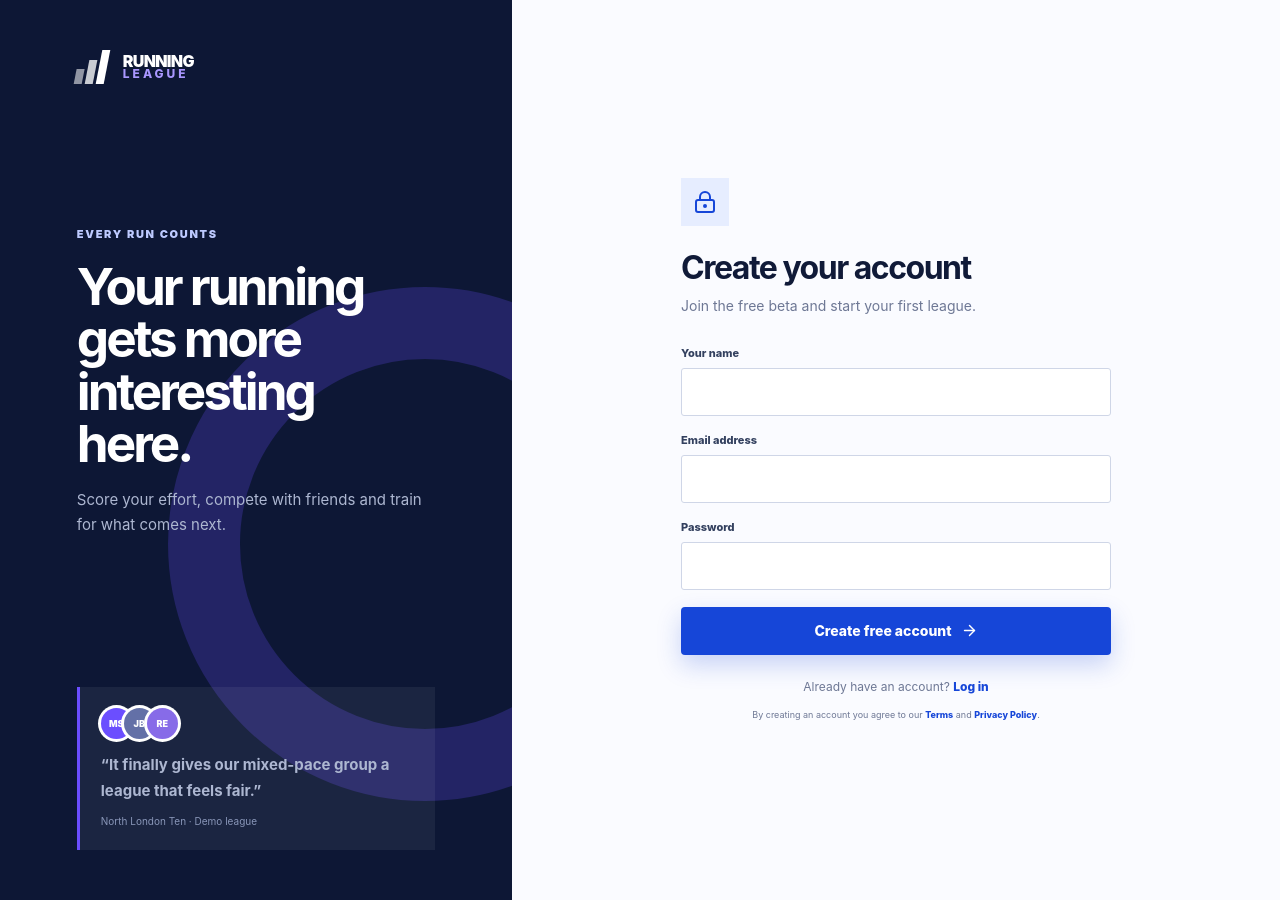
Test: RunningLeague product › never stores registration passwords locally
Step 1. Type "Alex Runner" into the field labelled "Your name" → [896, 392], box [681,368,1111,416]
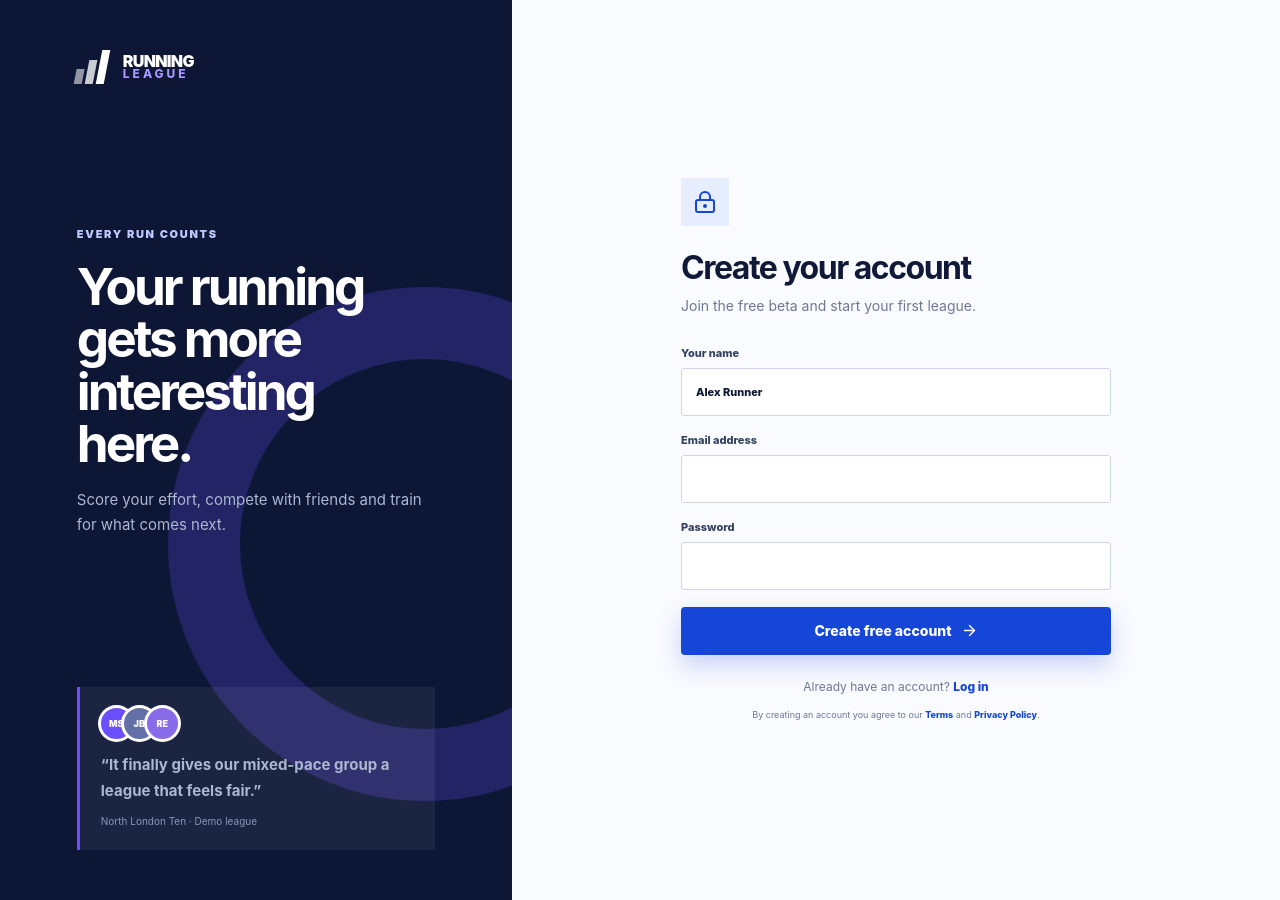
Step 2. Type "alex@example.com" into the field labelled "Email address" → [896, 478], box [681,454,1111,502]
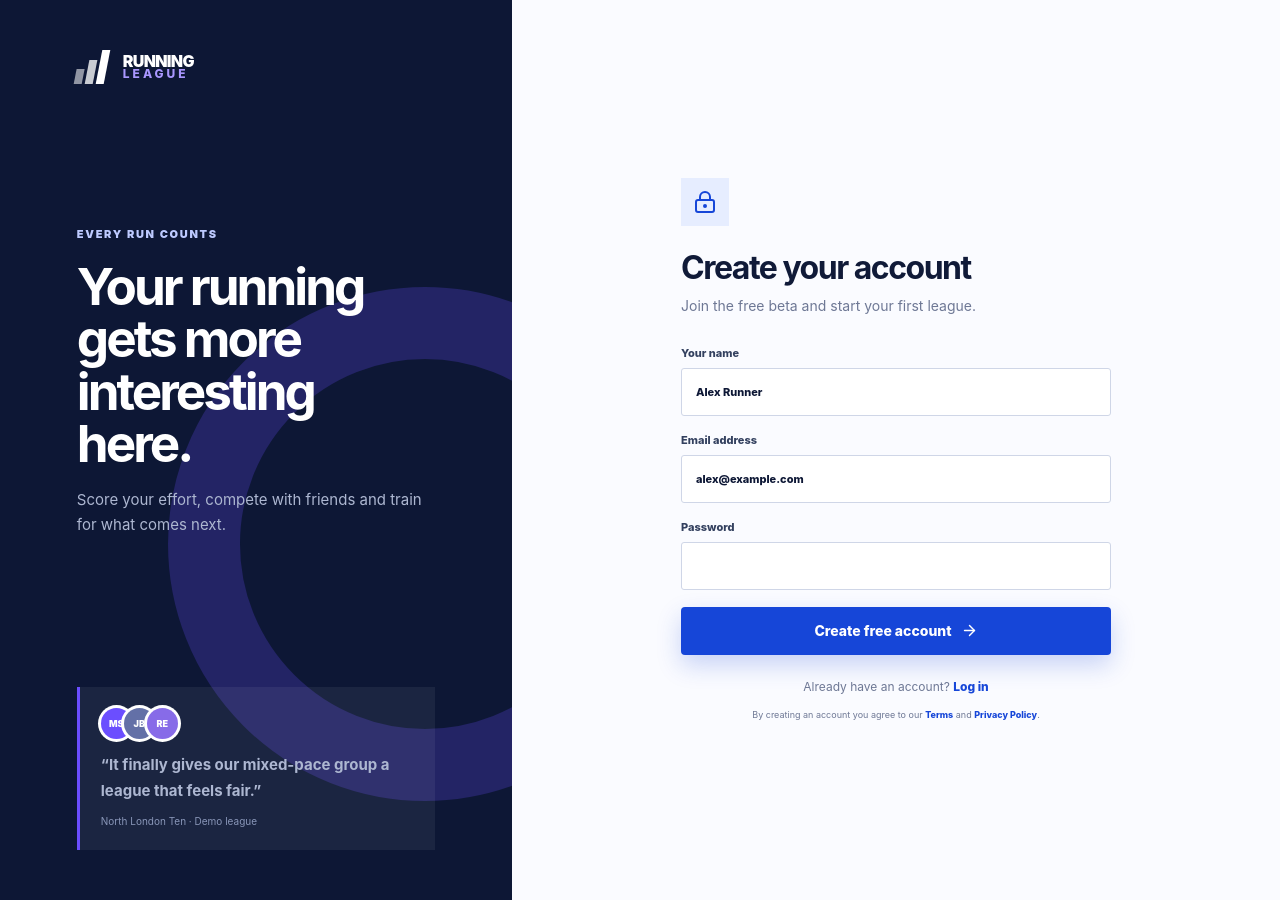
Step 3. Type "StrongPass1!" into the password field labelled "Password" → [896, 566], box [681,542,1111,590]
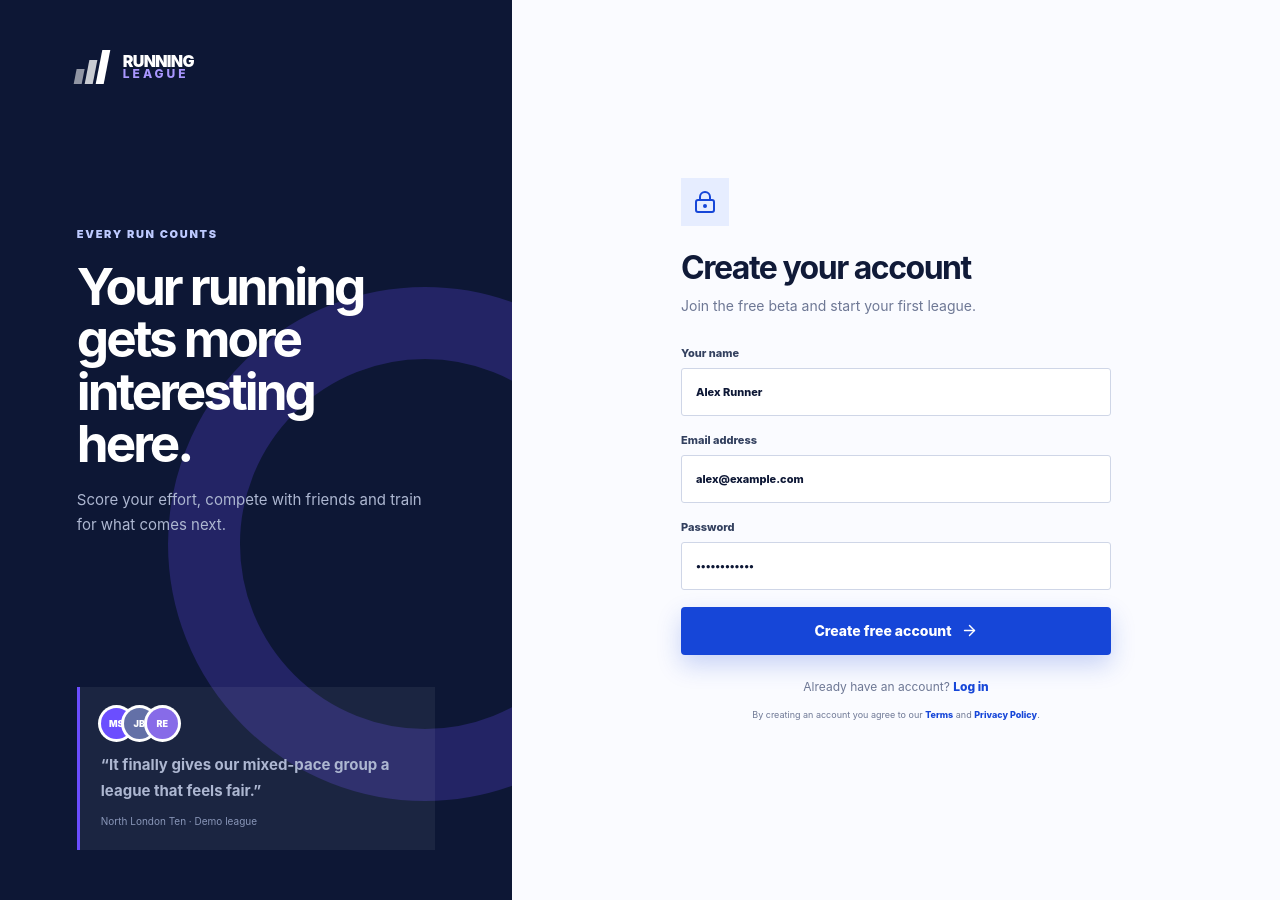
Step 4. Click the button "Create free account" → [896, 630], box [681,606,1111,654]
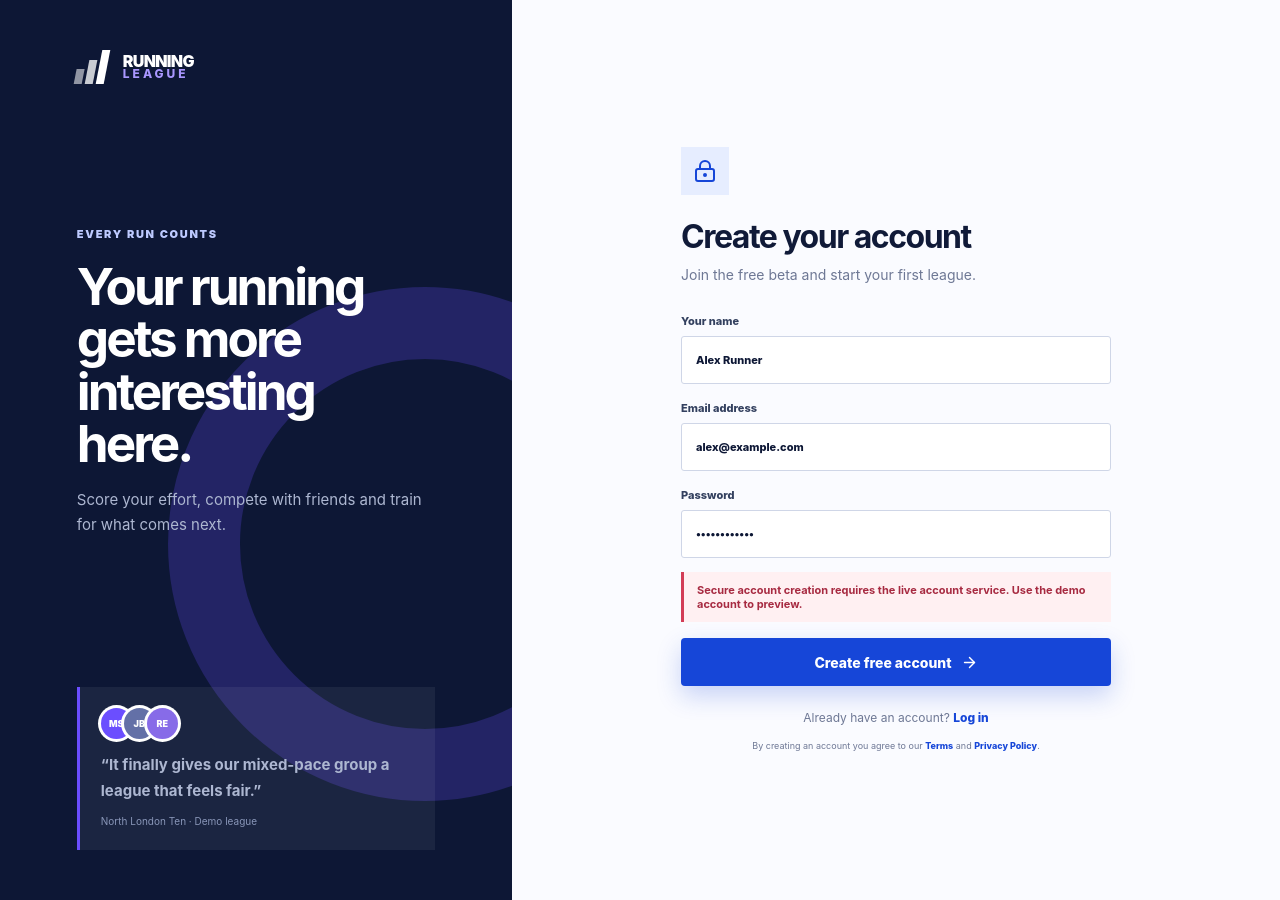
Now the text "Secure account creation requires" is shown, box [697,583,1085,611]
